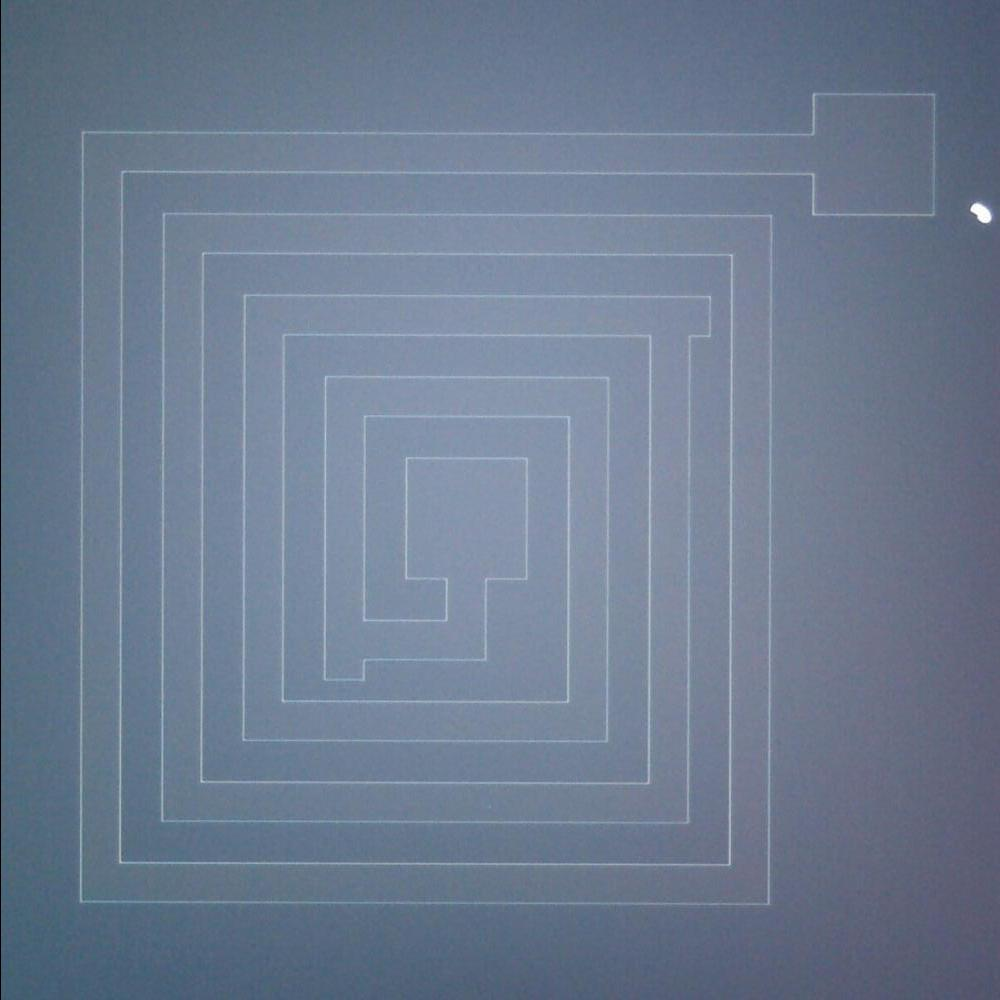budge circuit: (678, 284, 718, 351), (314, 654, 381, 688)
spot: (960, 190, 999, 237)
